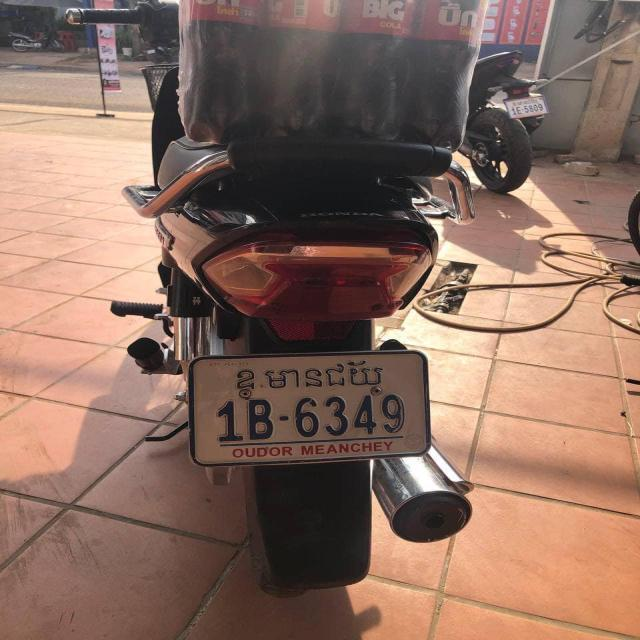Oudor_Meanchey: (235, 360, 384, 388)
